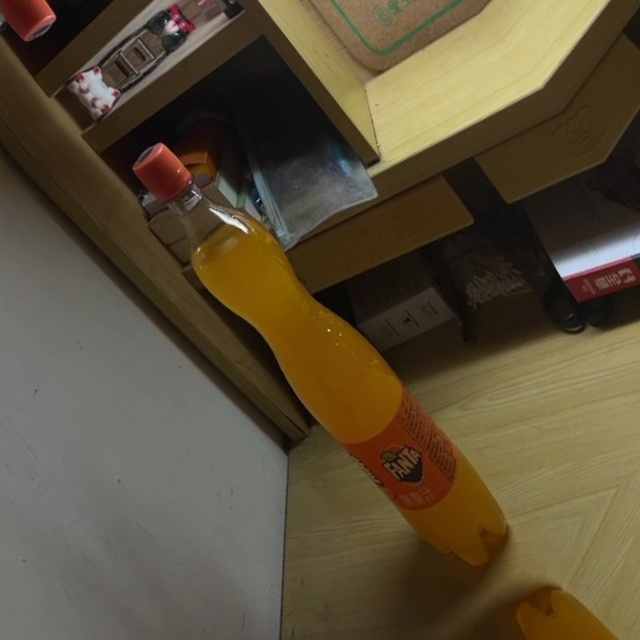Fanta: (111, 118, 531, 593)
